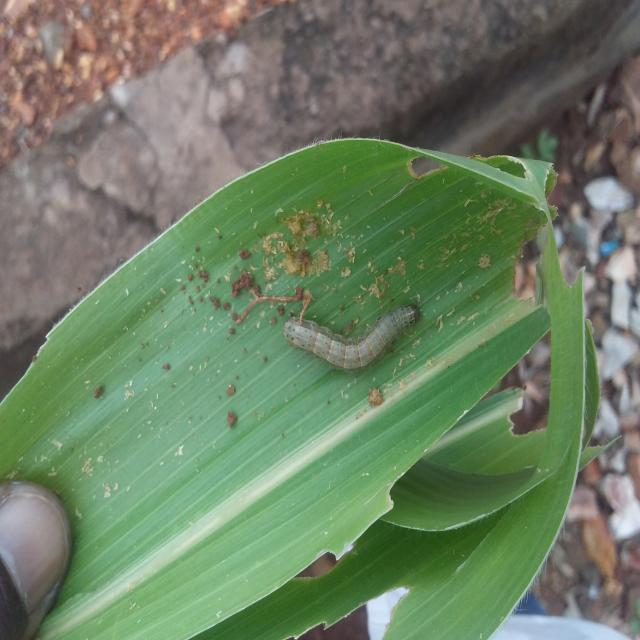yellow-stem-borer-larva: (258, 282, 436, 380)
